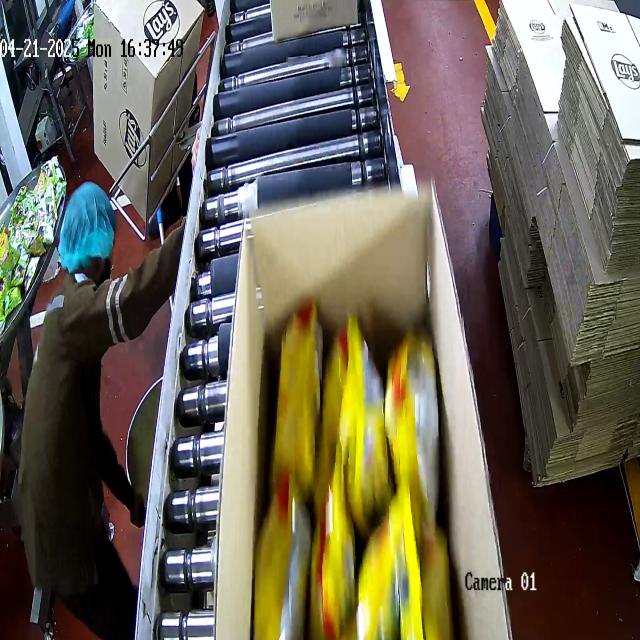SALTED: (266, 279, 449, 640)
